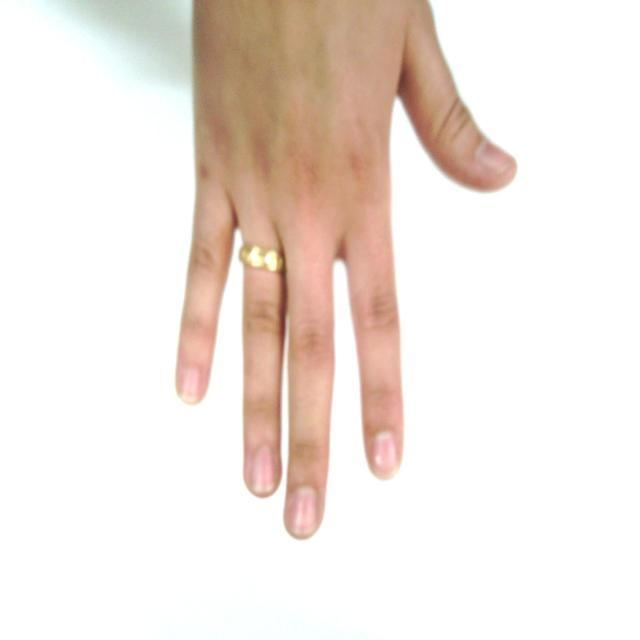Fingernail: (289, 488, 318, 537), (477, 142, 514, 178), (373, 431, 398, 480), (252, 447, 276, 494), (182, 367, 201, 405)
